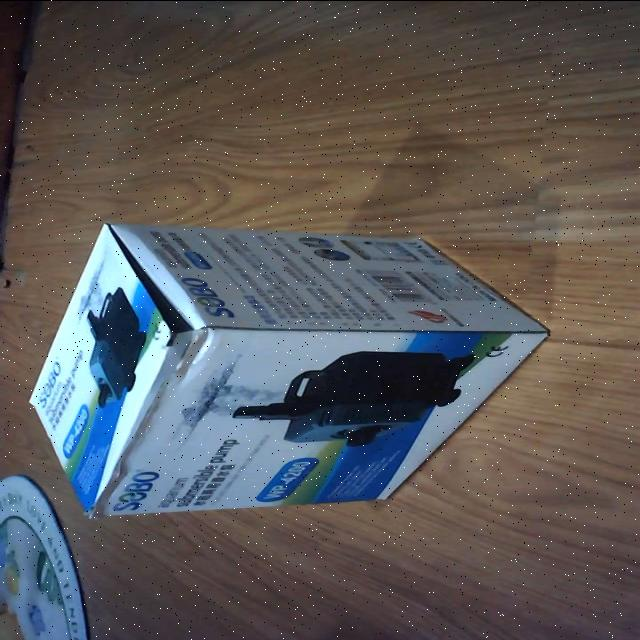SOBO_WP_4200: (20, 213, 558, 524)
